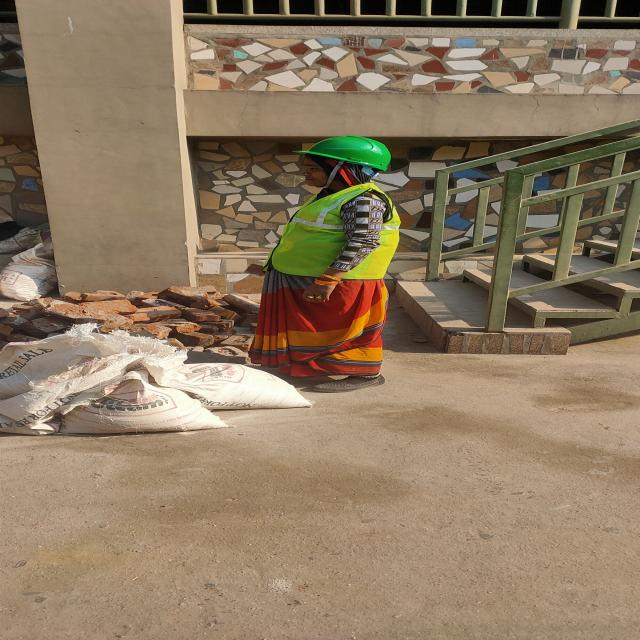safe: (250, 136, 402, 393)
